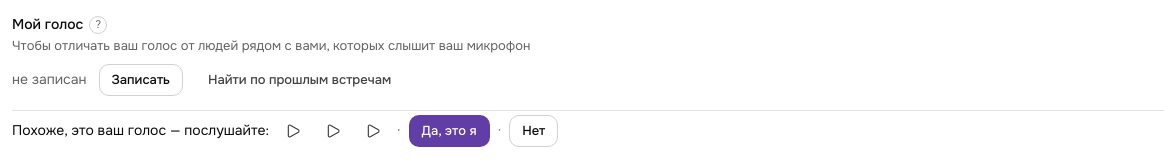
Test: поиск по встречам: «Да, это я» — образец, карточка исчезает
The width and height of the screenshot is (1164, 164).
Step 1. Click the button "Да, это я" → (449, 131), box [408, 115, 490, 147]
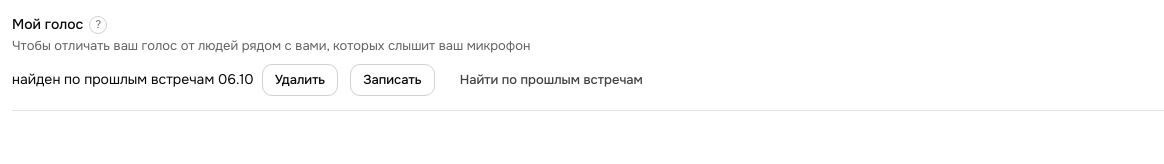
Expected: the text "найден по прошлым встречам 06.10" is shown, [12, 69, 254, 90]
